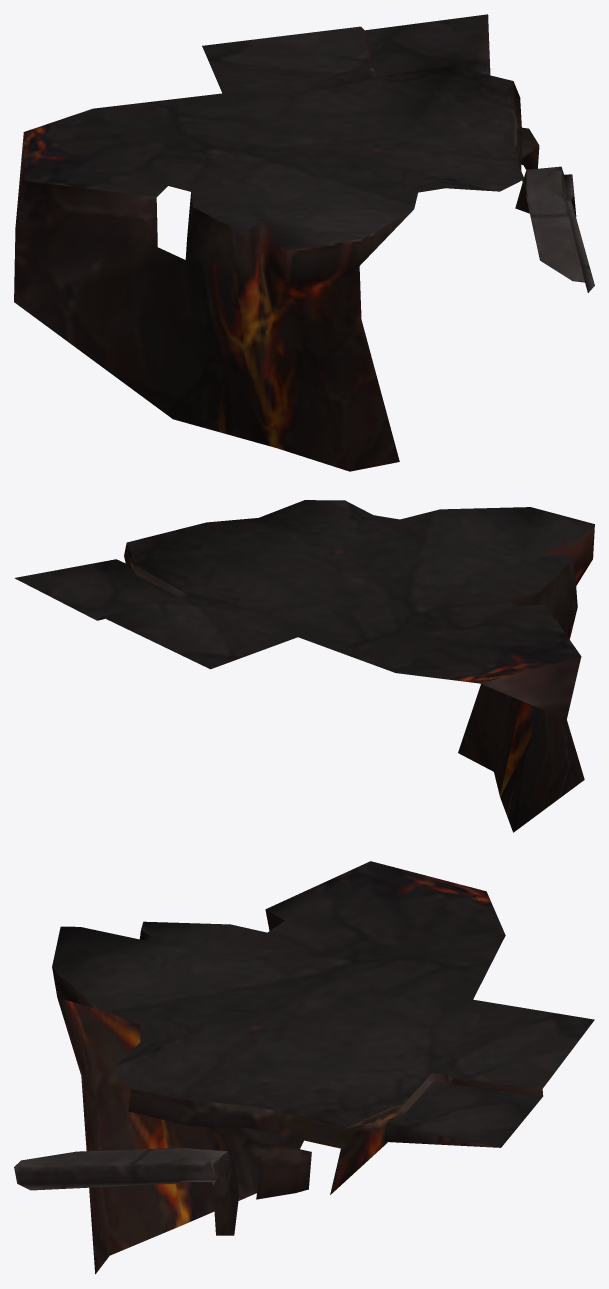
File: S2_Build_XSC106_L2.FBX
3 renders of one model, top to bottom at view 1: azimuth 30°, elevation 25°; view 2: azimuth 150°, elevation 25°; view 3: azimuth 270°, elevation 25°, orthographic. The views are drawn at different scales.
Visible parts, largest first — view 1: S2_Build_XSC106_L2; view 2: S2_Build_XSC106_L2; view 3: S2_Build_XSC106_L2.
Boxes of the visible parts, x1,y1,x2,y2 form: S2_Build_XSC106_L2: (14,14,594,471); S2_Build_XSC106_L2: (14,500,594,832); S2_Build_XSC106_L2: (14,861,594,1274).
Bounding box in the file's own units: 1651 × 767 × 1417.
